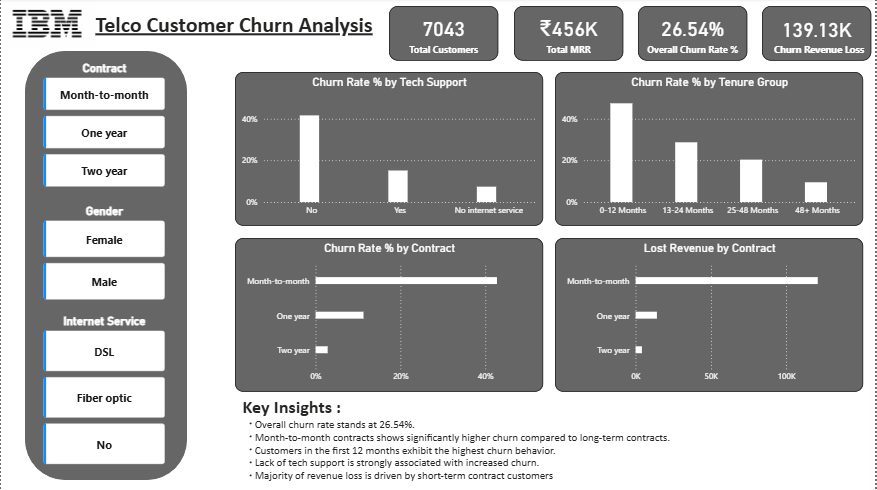

What the dashboard file says about the page in this screenshot:
{"tool":"powerbi","page":{"name":"Page 1","canvas":[1280,720],"ordinal":0},"visuals":[{"type":"shape","box":[35.1,77.6,237.1,627.8],"z":0},{"type":"card","fields":{"Values":["Telco_Churn.Total Customers"]},"box":[567.8,11.7,160,80],"z":1000},{"type":"image","box":[0,0,139,74.6],"z":2000},{"type":"card","fields":{"Values":["Telco_Churn.Total MRR"]},"box":[750.7,11.7,160,80],"z":3000},{"type":"card","fields":{"Values":["Telco_Churn.Overall Churn Rate %"]},"box":[932.2,11.7,160,80],"z":4000},{"type":"card","fields":{"Values":["Telco_Churn.Lost Revenue"]},"box":[1113.7,11.7,160,80],"z":5000},{"type":"clusteredBarChart","fields":{"Category":["Telco_Churn.Contract"],"Y":["Telco_Churn.Churn Rate %"]},"box":[342.2,351.2,450.7,225.4],"z":6000},{"type":"textbox","box":[133.2,14.6,463.9,54.1],"z":7000},{"type":"lineStackedColumnComboChart","fields":{"Y":["Telco_Churn.Churn Rate %"],"Category":["Telco_Churn.Tenure Group"]},"box":[810.5,108.3,450.7,225.4],"z":8000},{"type":"lineStackedColumnComboChart","fields":{"Y":["Telco_Churn.Churn Rate %"],"Category":["Telco_Churn.Tech Support"]},"box":[342.4,108.3,450.7,225.4],"z":9000},{"type":"advancedSlicerVisual","fields":{"Values":["Telco_Churn.Contract"]},"box":[56.7,92.1,188.8,191.7],"z":10000},{"type":"advancedSlicerVisual","fields":{"Values":["Telco_Churn.Gender"]},"box":[56.7,301.3,188.8,146.3],"z":11000},{"type":"advancedSlicerVisual","fields":{"Values":["Telco_Churn.Internet Service"]},"box":[56.7,462.3,188.8,225.4],"z":12000},{"type":"clusteredBarChart","fields":{"Category":["Telco_Churn.Contract"],"Y":["Telco_Churn.Lost Revenue"]},"box":[810.5,351.2,450.7,225.4],"z":13000},{"type":"textbox","box":[348.3,576.6,683.4,143.4],"z":14000},{"type":"textbox","box":[1113.7,60,166.8,48.3],"z":15000}]}

Visuals, with their boxes in screenshot pixels (x1, y1, x2, y2), scaled from the page's 1280x720 canvas onto the 877x490 screenshot:
shape: bbox=[24, 53, 186, 480]
card - Telco_Churn.Total Customers: bbox=[389, 8, 499, 62]
image: bbox=[0, 0, 95, 51]
card - Telco_Churn.Total MRR: bbox=[514, 8, 624, 62]
card - Telco_Churn.Overall Churn Rate %: bbox=[639, 8, 748, 62]
card - Telco_Churn.Lost Revenue: bbox=[763, 8, 873, 62]
clusteredBarChart - Telco_Churn.Contract x Telco_Churn.Churn Rate %: bbox=[234, 239, 543, 392]
textbox: bbox=[91, 10, 409, 47]
lineStackedColumnComboChart - Telco_Churn.Churn Rate % x Telco_Churn.Tenure Group: bbox=[555, 74, 864, 227]
lineStackedColumnComboChart - Telco_Churn.Churn Rate % x Telco_Churn.Tech Support: bbox=[235, 74, 543, 227]
advancedSlicerVisual - Telco_Churn.Contract: bbox=[39, 63, 168, 193]
advancedSlicerVisual - Telco_Churn.Gender: bbox=[39, 205, 168, 305]
advancedSlicerVisual - Telco_Churn.Internet Service: bbox=[39, 315, 168, 468]
clusteredBarChart - Telco_Churn.Contract x Telco_Churn.Lost Revenue: bbox=[555, 239, 864, 392]
textbox: bbox=[239, 392, 707, 489]
textbox: bbox=[763, 41, 876, 74]
